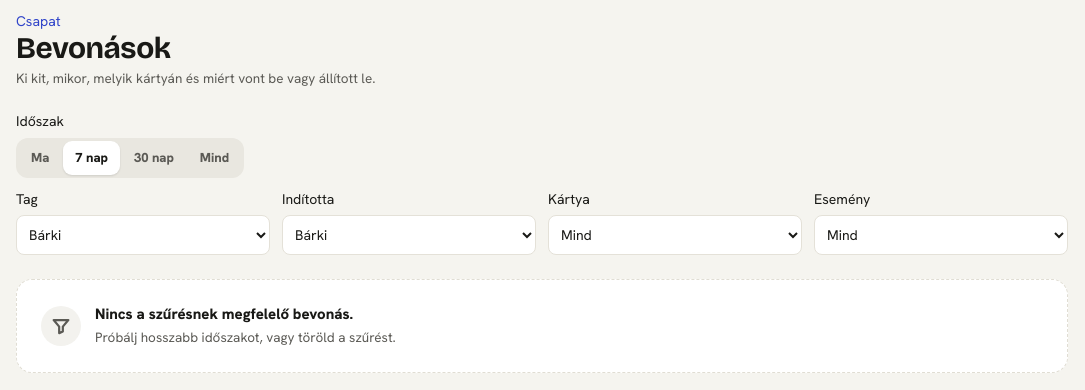
Test: involvement overview › shows the first-use state
Expected: the text "Nincs a szűrésnek megfelelő bevonás." is shown, [95,304,353,324]
Click the button "Mind" at {"x": 214, "y": 158}, box [188,141,241,175]
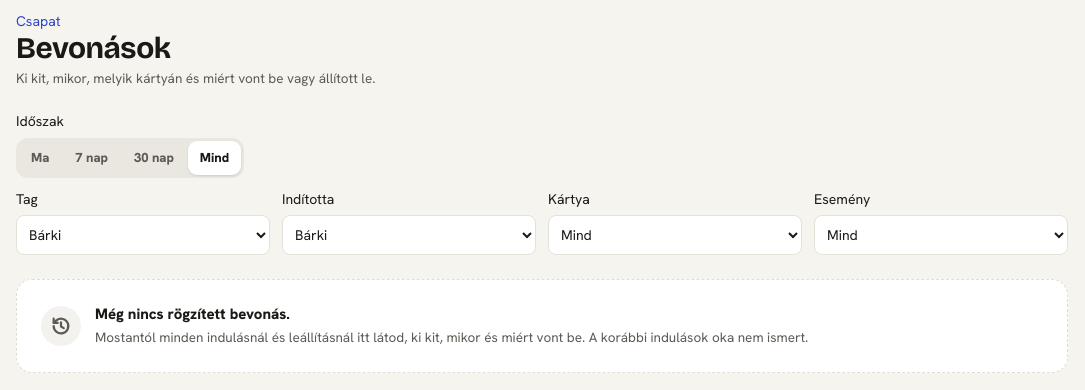
Expected: the text "Még nincs rögzített bevonás." is shown, [95,304,290,324]
